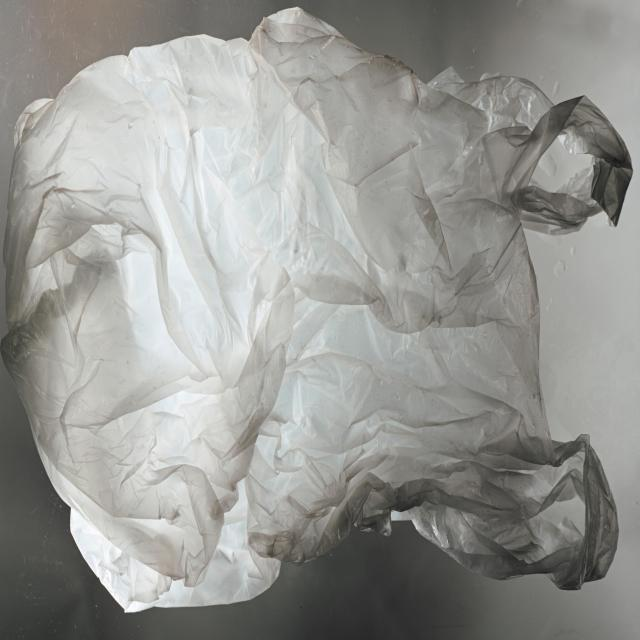Plastic_Bag: (11, 8, 632, 607)
